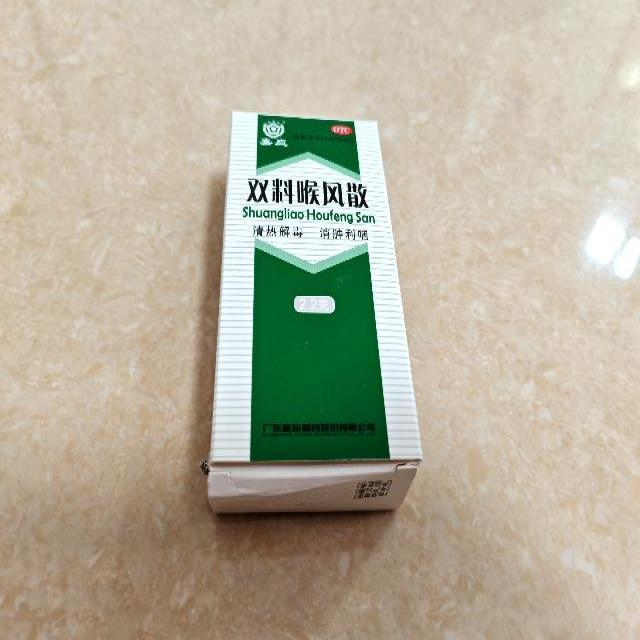box: (207, 110, 421, 517)
